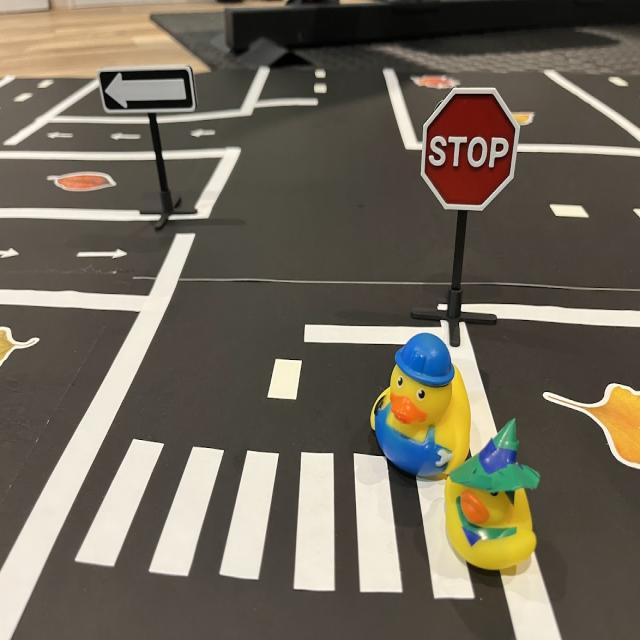duck_regular: (446, 420, 542, 578)
duck_specialty: (372, 335, 471, 483)
road_crosswalk: (72, 431, 480, 598)
road_oneway: (72, 242, 130, 265), (190, 124, 222, 143), (109, 131, 146, 145), (48, 127, 77, 143), (1, 243, 23, 264)
sign_oneway_left: (97, 69, 198, 116)
sign_stop: (421, 88, 521, 216)
